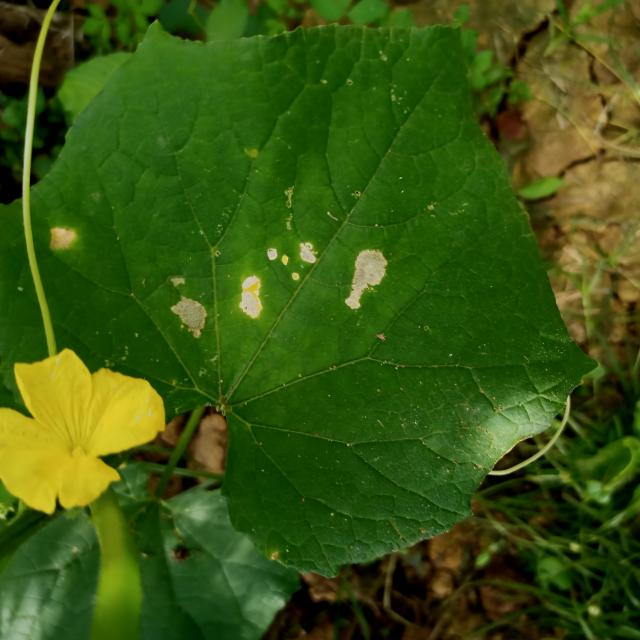disease_cucumber: (169, 239, 390, 339), (46, 222, 78, 253)
